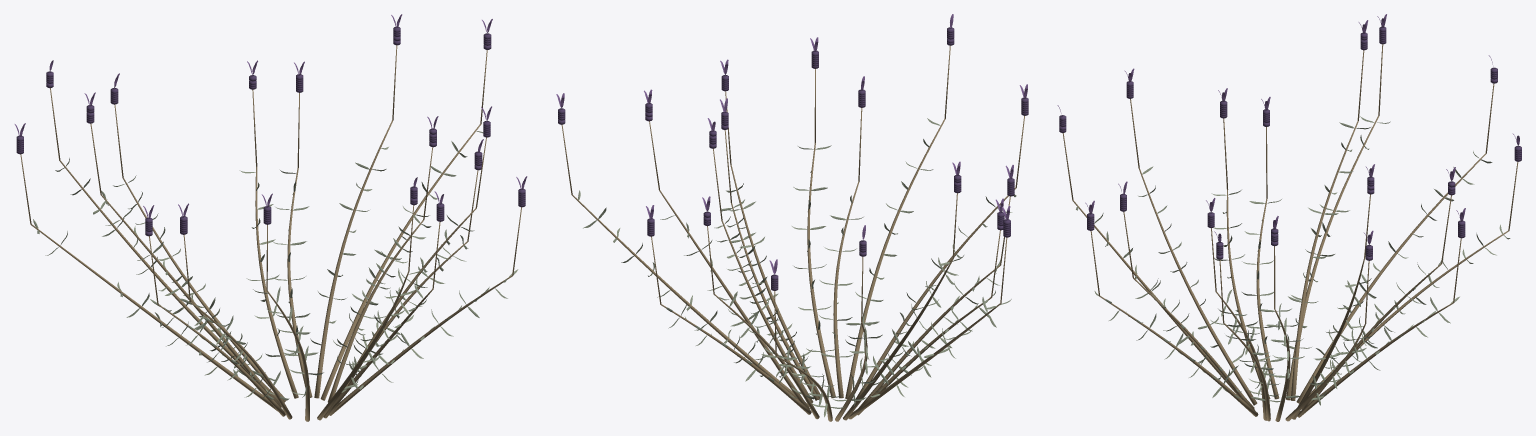
File: Lavande_2_Niveau0.fbx
3 views of the same model, side by side, from view 1: azimuth 30°, elevation 25°; view 2: azimuth 150°, elevation 25°; view 3: azimuth 270°, elevation 25° (orthographic). The views are drawn at different scales.
Visible parts, largest first — view 1: Lavande_2_Niveau0; view 2: Lavande_2_Niveau0; view 3: Lavande_2_Niveau0.
Part boxes in pixels (left/top/right/bottom): Lavande_2_Niveau0: left=14, top=14, right=527, bottom=421; Lavande_2_Niveau0: left=556, top=14, right=1028, bottom=421; Lavande_2_Niveau0: left=1057, top=14, right=1521, bottom=421.
Size of the model in its own units: 91.32 by 60.47 by 82.21.
